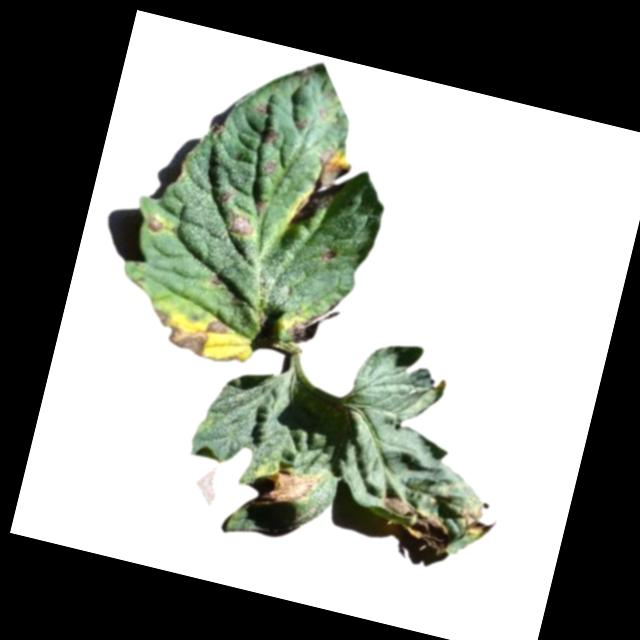Early_blight: (147, 302, 234, 365), (373, 494, 459, 555), (292, 148, 355, 228), (252, 461, 325, 520), (284, 296, 343, 353), (455, 497, 502, 544), (222, 209, 254, 243), (259, 125, 282, 148), (144, 216, 167, 236), (262, 156, 282, 175), (319, 249, 340, 267), (216, 186, 232, 207), (253, 103, 271, 118), (207, 275, 222, 290), (295, 119, 310, 132)
